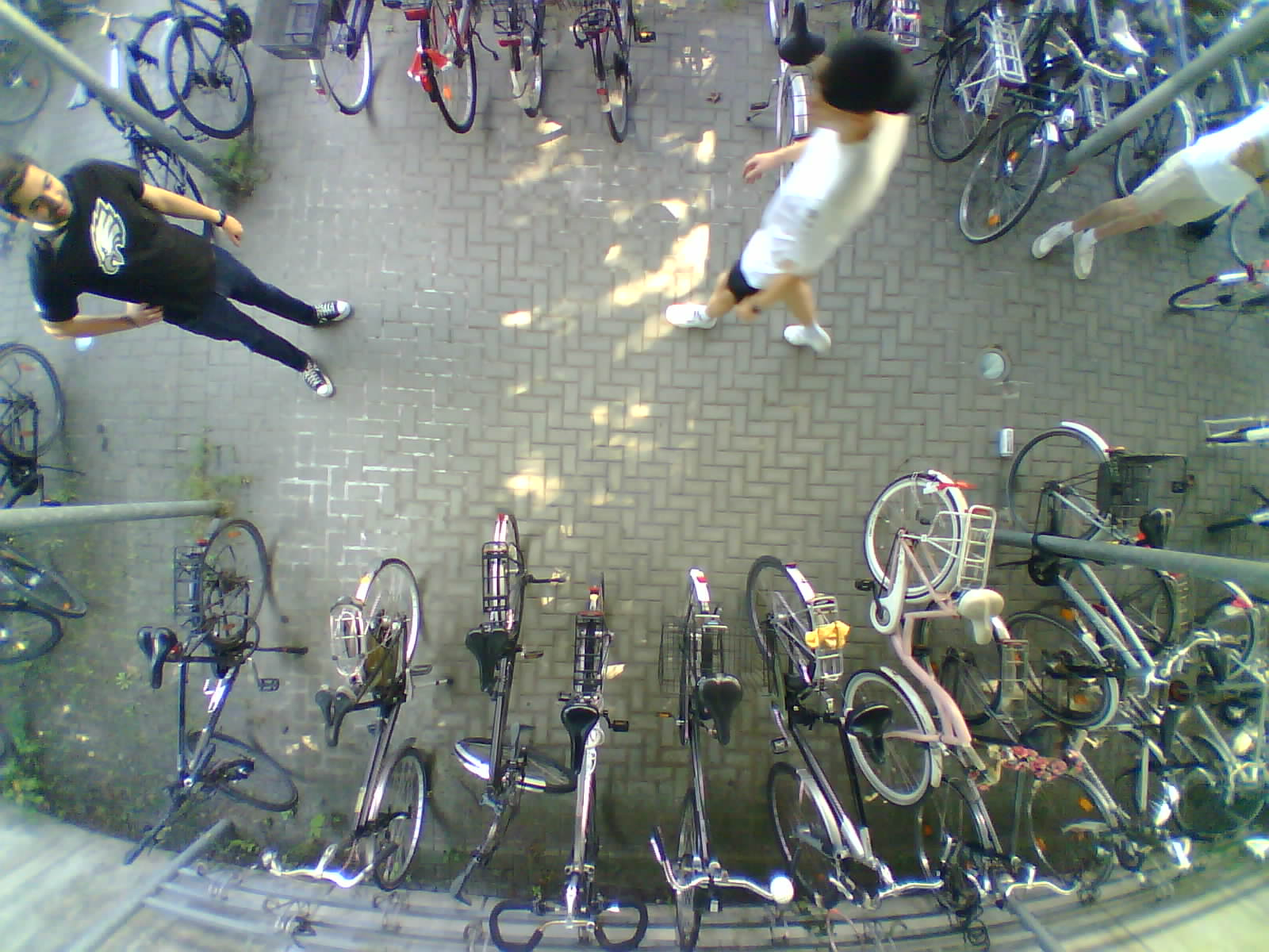bicylce: (999, 409, 1158, 724), (1083, 547, 1256, 832), (859, 468, 981, 803), (1033, 588, 1152, 908), (155, 517, 274, 824), (658, 571, 749, 952), (335, 556, 431, 889), (760, 558, 851, 907), (929, 587, 1015, 914), (470, 513, 543, 886), (555, 572, 622, 947), (95, 0, 201, 232), (977, 0, 1072, 250)
saddle: (775, 0, 832, 71), (698, 670, 746, 748), (844, 699, 898, 765), (313, 679, 359, 748), (957, 587, 1006, 649), (466, 630, 512, 693), (136, 622, 178, 691), (560, 704, 598, 772), (1106, 11, 1150, 61), (1140, 501, 1179, 556), (1153, 697, 1184, 760), (62, 77, 94, 117), (1204, 638, 1228, 685)
